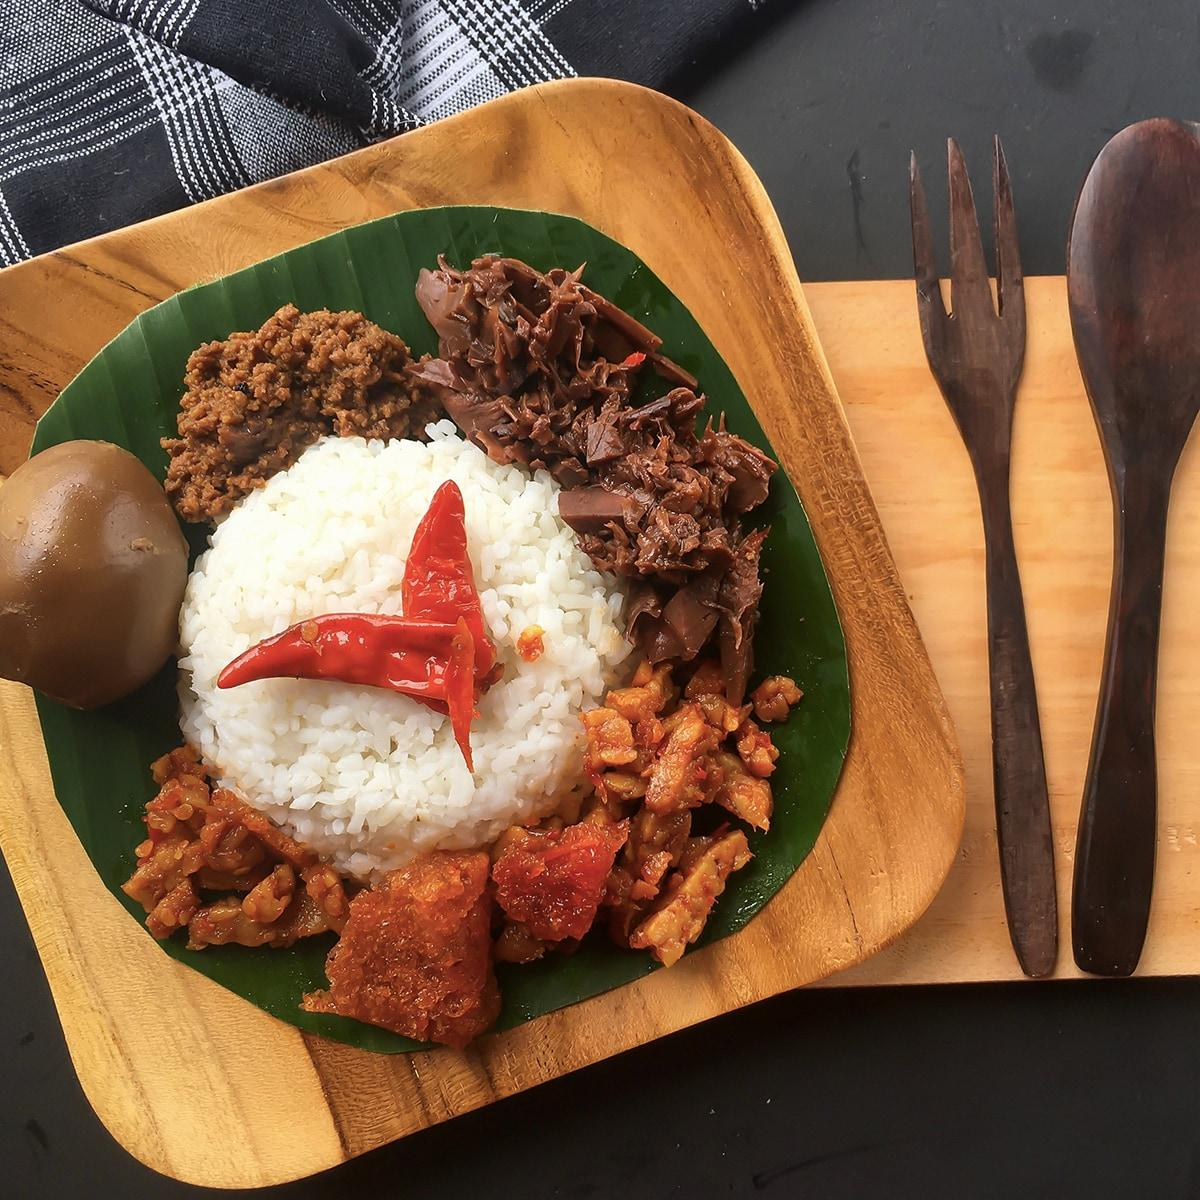gudeg: (4, 254, 804, 1054)
